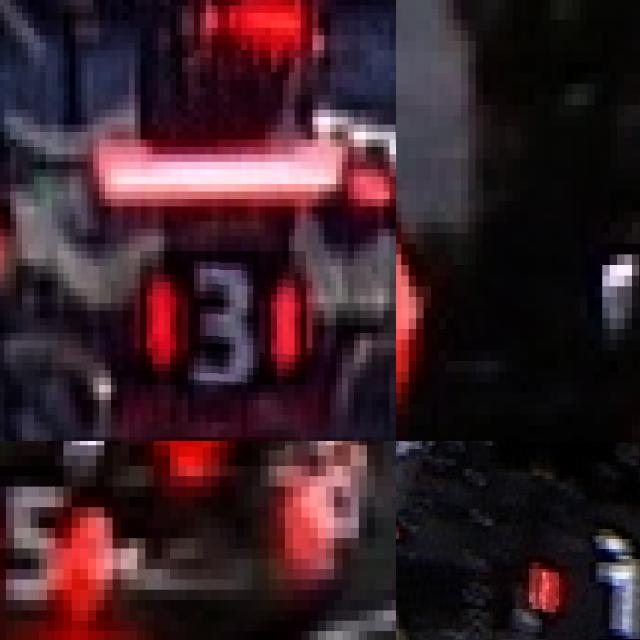R1: (507, 543, 640, 637)
R3: (140, 251, 306, 385)
R5: (0, 476, 104, 620)
